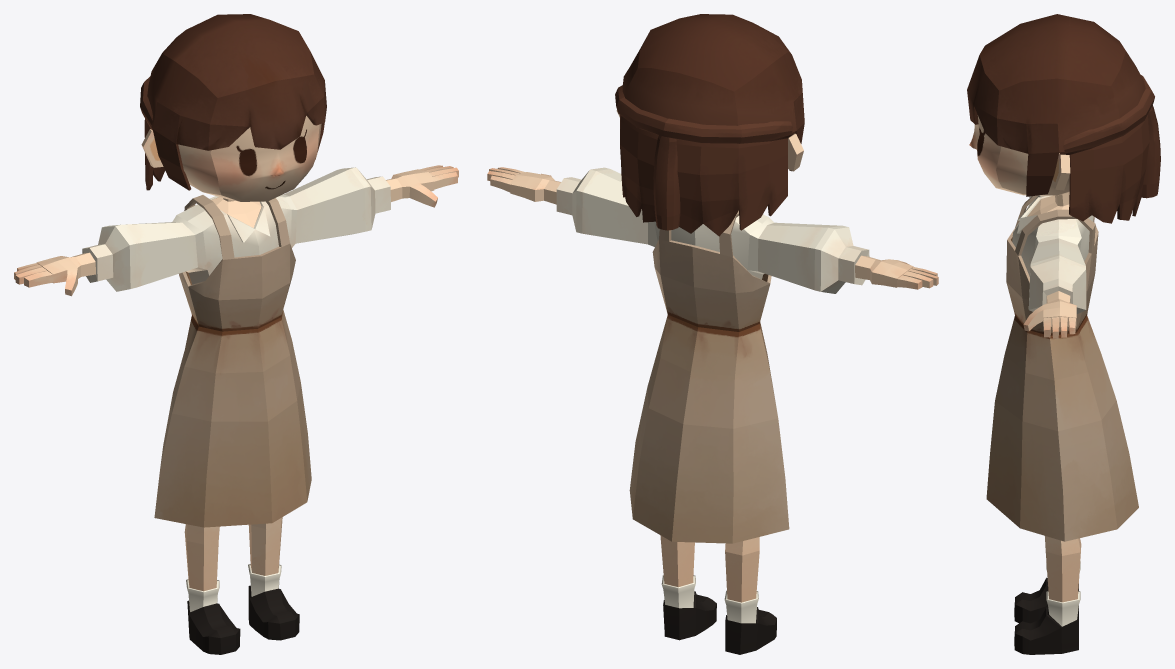
The model's file is MotherTexture.obj.
3 views of the same model, side by side, from view 1: azimuth 30°, elevation 25°; view 2: azimuth 150°, elevation 25°; view 3: azimuth 270°, elevation 25° (orthographic).
Visible parts, largest first — view 1: dress_standardSurface11SG, hair_standardSurface10SG, Body_standardSurface11SG, Body_standardSurface11SG_1, Head_uv_standardSurface10SG_3; view 2: dress_standardSurface11SG, hair_standardSurface10SG, Body_standardSurface11SG, Body_standardSurface11SG_1, Head_uv_standardSurface10SG, Head_uv_standardSurface10SG_1; view 3: dress_standardSurface11SG, hair_standardSurface10SG, Body_standardSurface11SG, Body_standardSurface11SG_1, Head_uv_standardSurface10SG_3, Head_uv_standardSurface10SG, Head_uv_standardSurface10SG_1, Head_uv_standardSurface10SG_2.
Boxes of the visible parts, left/top/right/bottom form: dress_standardSurface11SG: left=154, top=195, right=311, bottom=527; hair_standardSurface10SG: left=144, top=14, right=326, bottom=190; Body_standardSurface11SG: left=71, top=167, right=402, bottom=591; Body_standardSurface11SG_1: left=14, top=165, right=458, bottom=654; Head_uv_standardSurface10SG_3: left=178, top=116, right=321, bottom=201; dress_standardSurface11SG: left=629, top=210, right=789, bottom=543; hair_standardSurface10SG: left=620, top=14, right=804, bottom=236; Body_standardSurface11SG: left=544, top=167, right=880, bottom=602; Body_standardSurface11SG_1: left=487, top=167, right=938, bottom=654; Head_uv_standardSurface10SG: left=615, top=85, right=795, bottom=143; Head_uv_standardSurface10SG_1: left=653, top=135, right=680, bottom=230; dress_standardSurface11SG: left=986, top=195, right=1138, bottom=541; hair_standardSurface10SG: left=967, top=14, right=1149, bottom=223; Body_standardSurface11SG: left=1012, top=192, right=1093, bottom=602; Body_standardSurface11SG_1: left=1014, top=298, right=1080, bottom=654; Head_uv_standardSurface10SG_3: left=969, top=115, right=1069, bottom=195; Head_uv_standardSurface10SG: left=1059, top=75, right=1154, bottom=154; Head_uv_standardSurface10SG_1: left=1141, top=105, right=1160, bottom=198; Head_uv_standardSurface10SG_2: left=1051, top=153, right=1070, bottom=190.
Size of the model in its own units: 15.43 by 20.35 by 5.88.
Materials: 2 (2 with a texture image).
